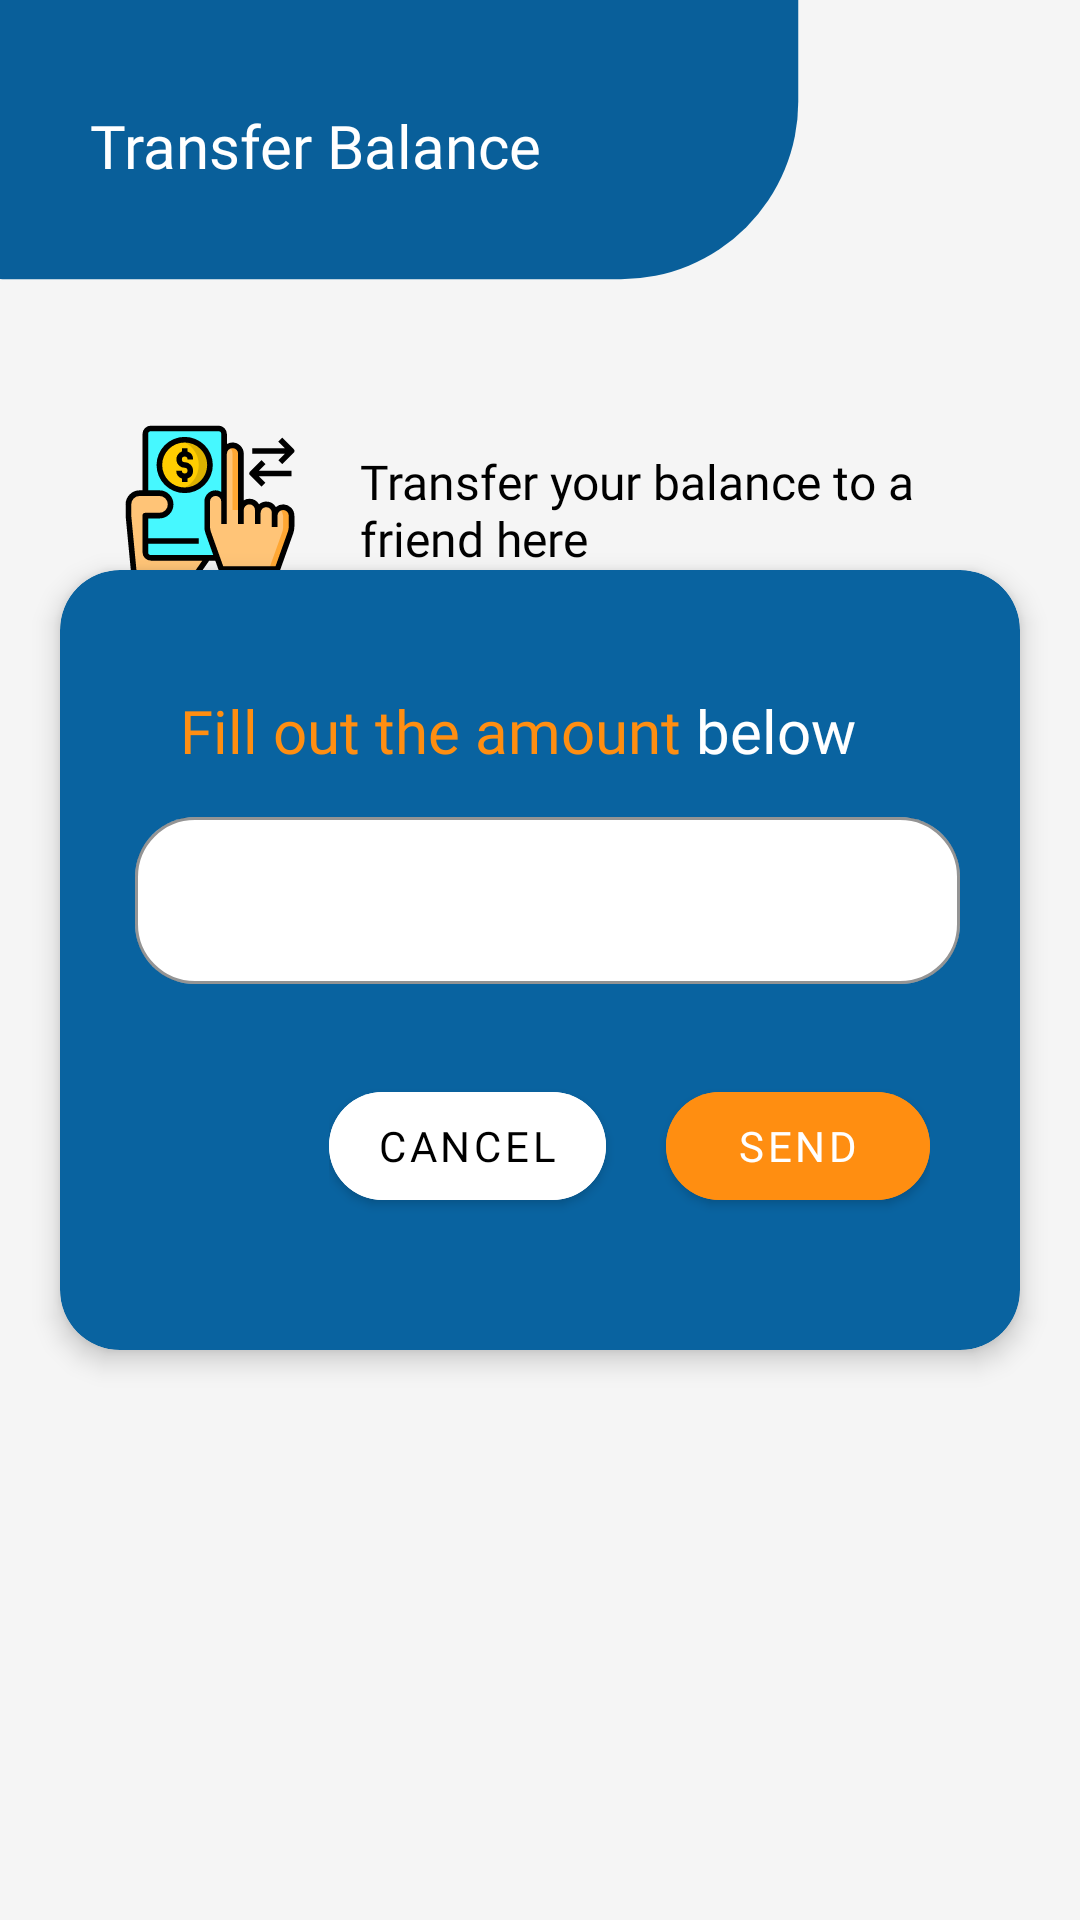

Where to tap for icons on this 1080x1920 app screen, as point (x, y):
money transfer: point (210, 512)
